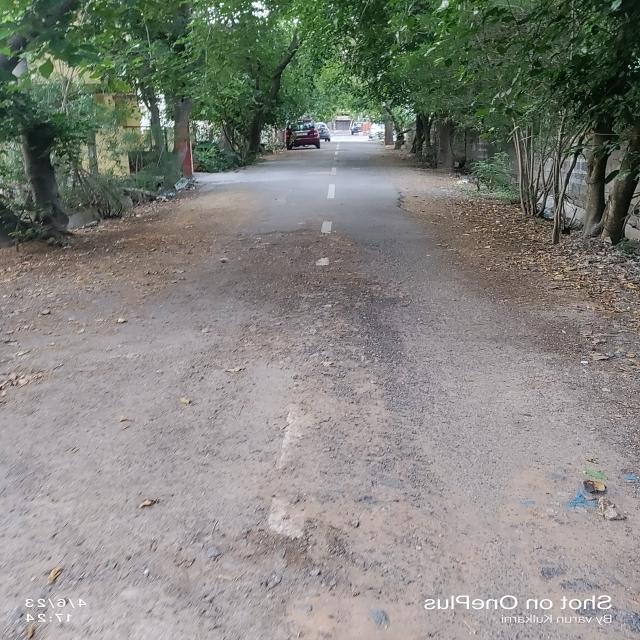potholes: (261, 221, 397, 558)
